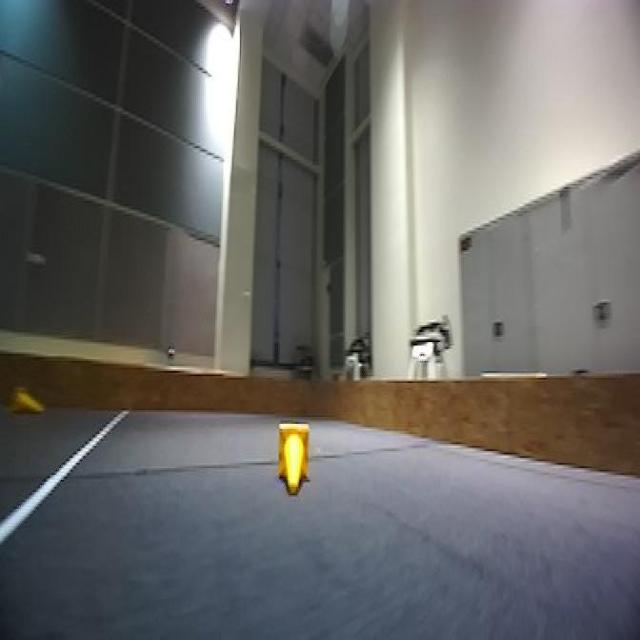frc_cone: (276, 419, 312, 492), (8, 383, 48, 419)
